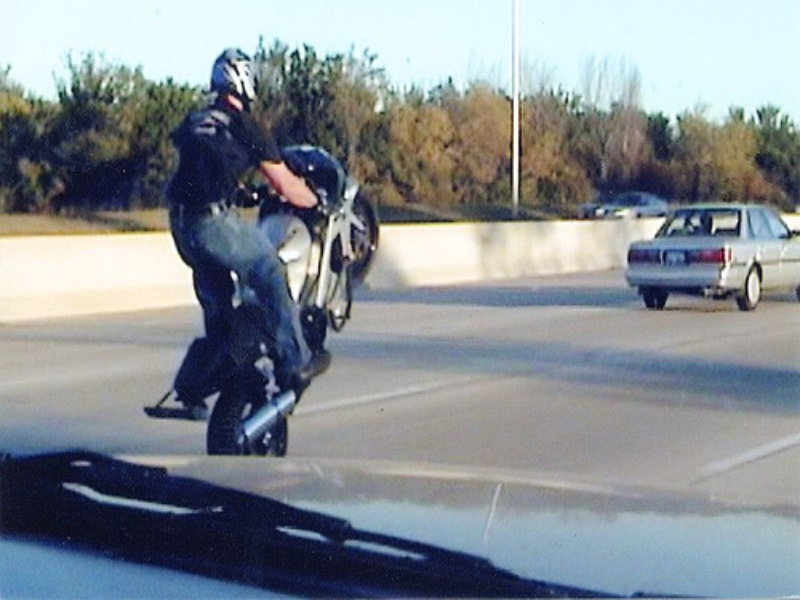car: (625, 204, 800, 311), (583, 191, 666, 217)
person: (166, 46, 332, 387)
